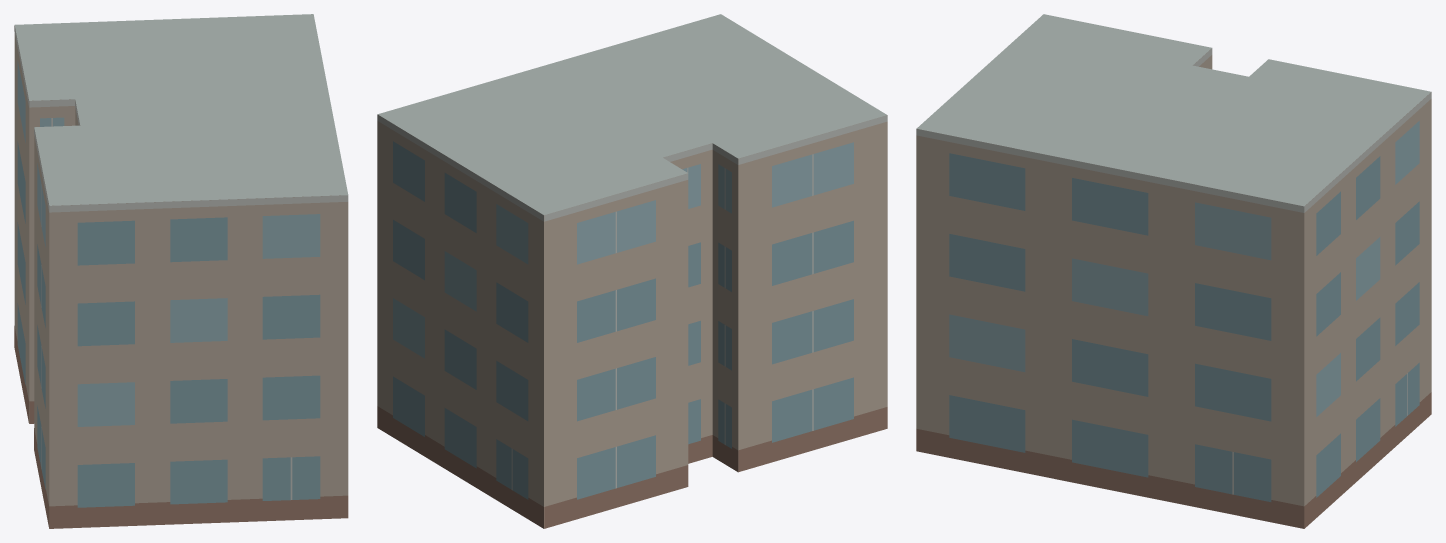
File: survey-upis-32965902.glb
The picture shows the model from 3 angles, left to right: view 1: azimuth 30°, elevation 25°; view 2: azimuth 150°, elevation 25°; view 3: azimuth 270°, elevation 25°; orthographic projection. The views are drawn at different scales.
Parts seen in each view (by area): view 1: survey-upis-32965902.tmp; view 2: survey-upis-32965902.tmp; view 3: survey-upis-32965902.tmp.
Part boxes in pixels (box(x1,y1,x2,y2)): survey-upis-32965902.tmp: box(14, 14, 348, 528); survey-upis-32965902.tmp: box(377, 14, 887, 528); survey-upis-32965902.tmp: box(916, 14, 1431, 528).
Size of the model in its own units: 15.1 by 11.8 by 17.09.
